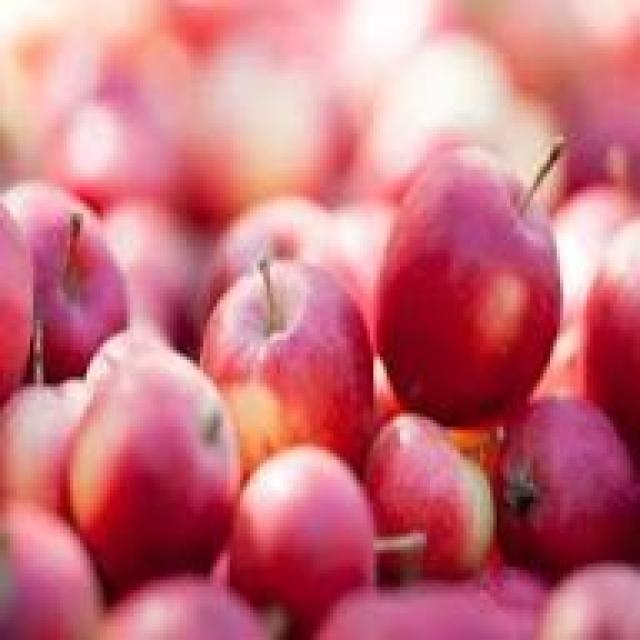apple: (383, 150, 560, 410), (73, 354, 240, 574), (210, 257, 373, 460), (486, 386, 636, 556), (236, 440, 376, 587), (370, 407, 500, 563), (7, 183, 130, 347)
